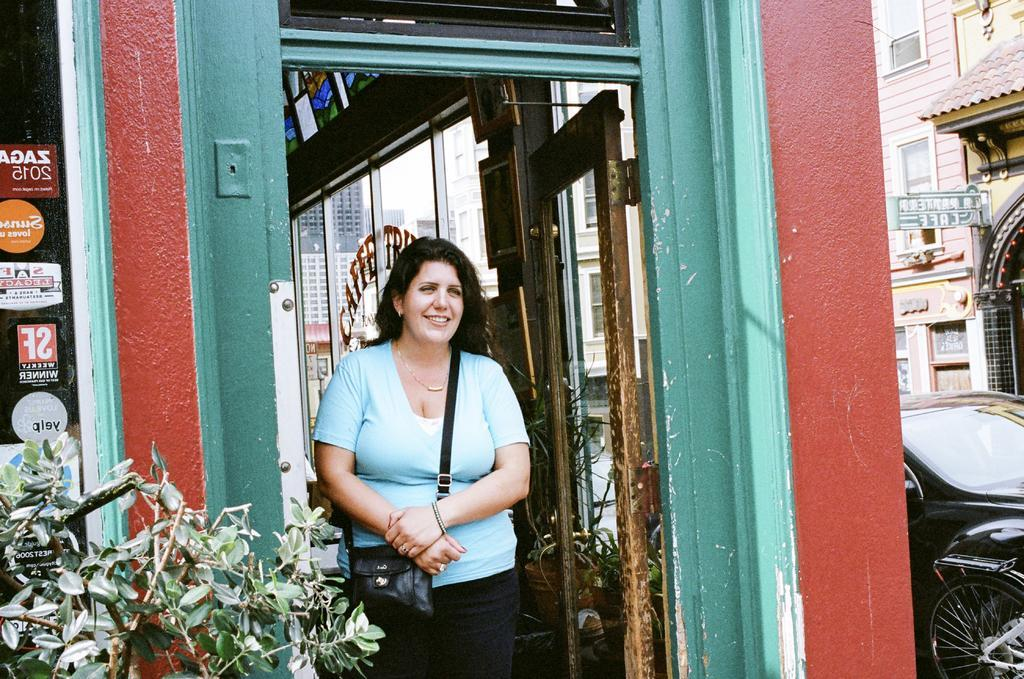door: (534, 120, 616, 679)
